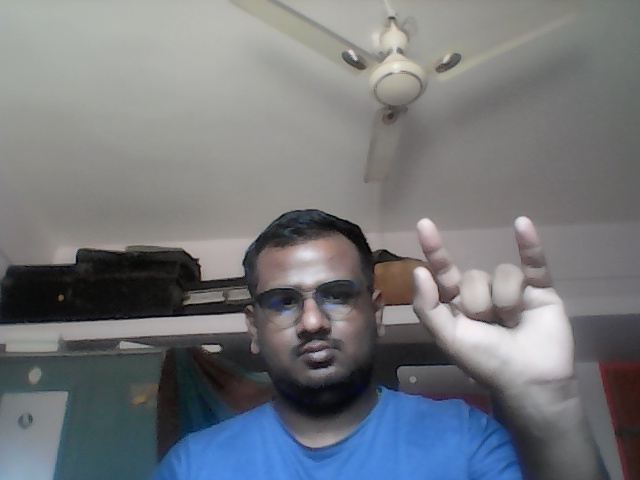I Love You: (409, 213, 577, 383)
